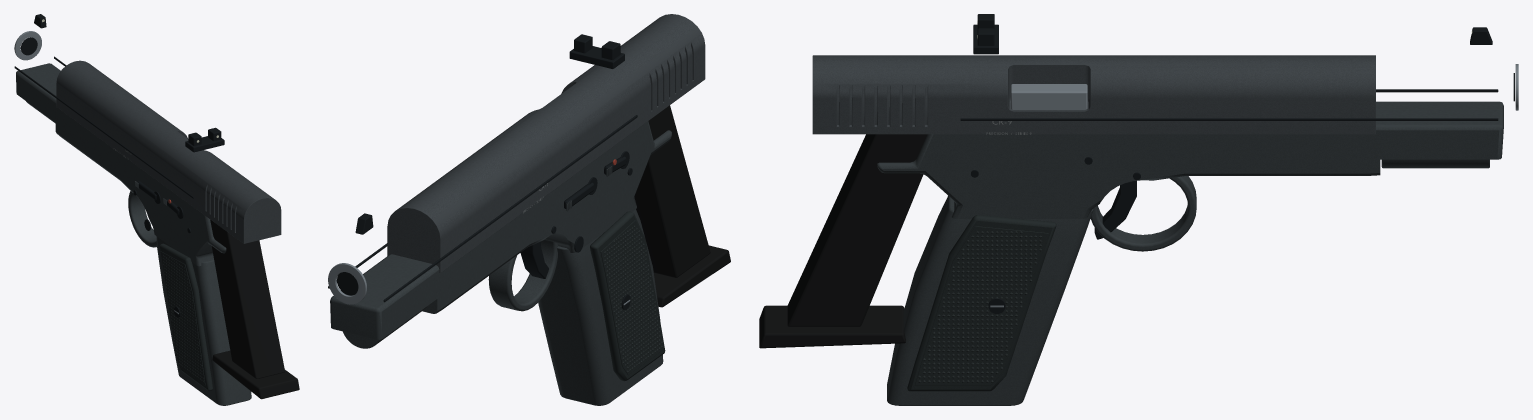
The model's file is weapon-71-BcP7Wna3.glb.
The picture shows the model from 3 angles, left to right: view 1: azimuth 30°, elevation 25°; view 2: azimuth 150°, elevation 25°; view 3: azimuth 270°, elevation 25°; orthographic projection. The views are drawn at different scales.
Visible parts, largest first — view 1: salient_weapon_body, salient_weapon_bolt, salient_weapon_magazine, salient_weapon_iron; view 2: salient_weapon_body, salient_weapon_bolt, salient_weapon_magazine, salient_weapon_iron; view 3: salient_weapon_body, salient_weapon_bolt, salient_weapon_magazine, salient_weapon_iron.
Part boxes in pixels (x1,y1,x2,y2): salient_weapon_body: (14, 31, 251, 405); salient_weapon_bolt: (56, 60, 281, 243); salient_weapon_magazine: (210, 220, 299, 399); salient_weapon_iron: (34, 14, 224, 152); salient_weapon_body: (328, 115, 671, 405); salient_weapon_bolt: (387, 14, 705, 272); salient_weapon_magazine: (634, 105, 730, 307); salient_weapon_iron: (355, 34, 624, 234); salient_weapon_body: (877, 64, 1518, 405); salient_weapon_bolt: (812, 55, 1375, 134); salient_weapon_magazine: (759, 134, 927, 348); salient_weapon_iron: (973, 14, 1492, 54).
Size of the model in its own units: 0.0303 by 0.1436 by 0.2669.
13 materials, 5 textured.
